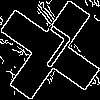L: (25, 25, 74, 78)
